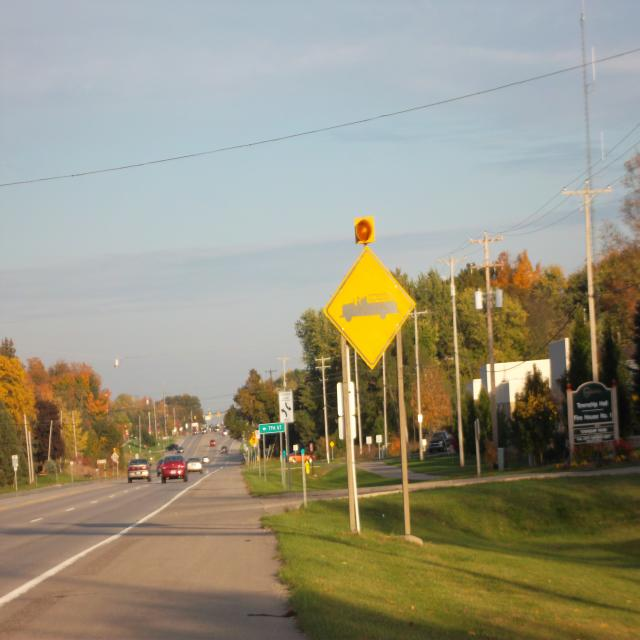regulatory: (278, 390, 294, 423), (255, 430, 260, 439)
warning: (325, 242, 419, 376), (250, 436, 258, 449), (329, 440, 334, 448)
